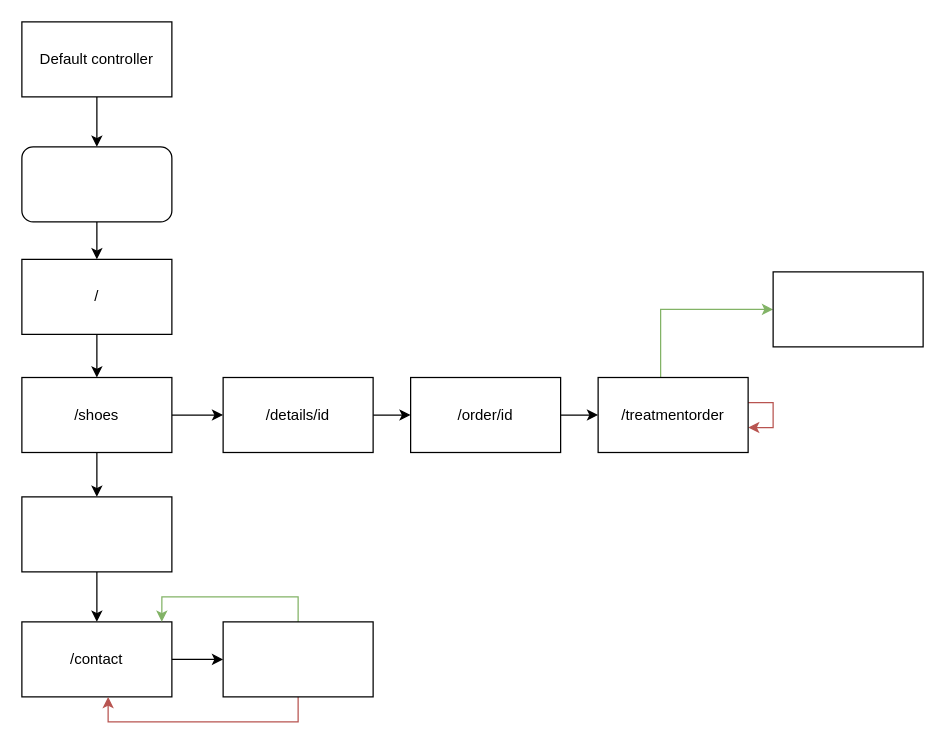
This 945x754 diagram has some shape labels left out. Here are the shapes that lost their labels. From the top down, the centre of each, then its label:
At point (96, 184): "pages".
At point (847, 309): "/ordersucces".
At point (96, 534): "/about".
At point (297, 659): "/sendContanct".
